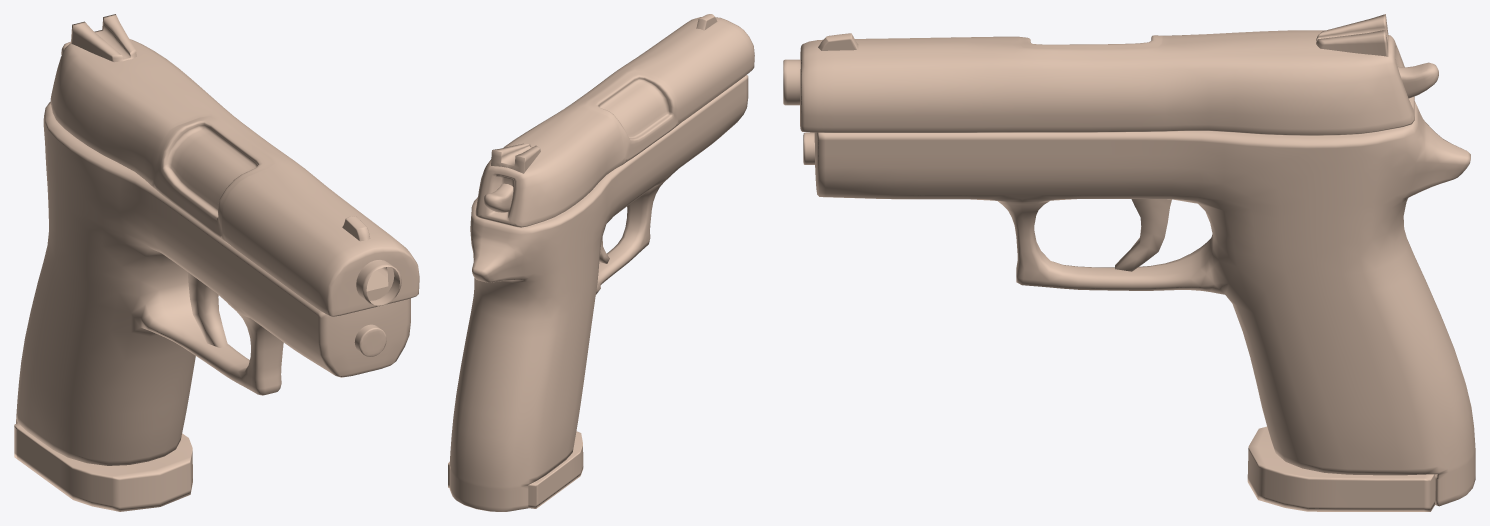
Rendered from Gun.fbx.
3 renders of one model, left to right at view 1: azimuth 30°, elevation 25°; view 2: azimuth 150°, elevation 25°; view 3: azimuth 270°, elevation 25°, orthographic. The views are drawn at different scales.
Parts seen in each view (by area): view 1: SemiAutoPistol; view 2: SemiAutoPistol; view 3: SemiAutoPistol.
Part boxes in pixels (x1,y1,x2,y2): SemiAutoPistol: (14,14,419,511); SemiAutoPistol: (448,14,754,511); SemiAutoPistol: (783,14,1475,511).
Bounding box in the file's own units: 1.18 × 4.04 × 5.54.
